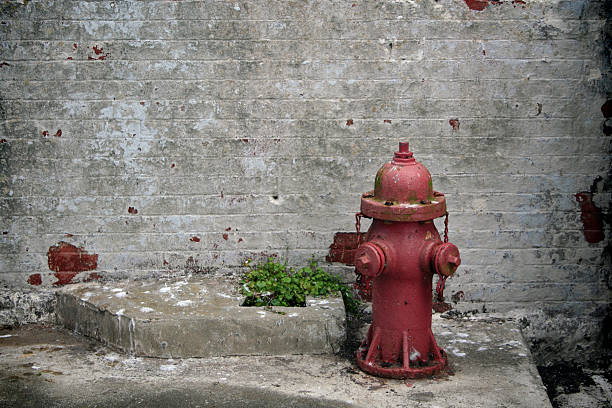firehdyrant: (351, 139, 463, 382)
